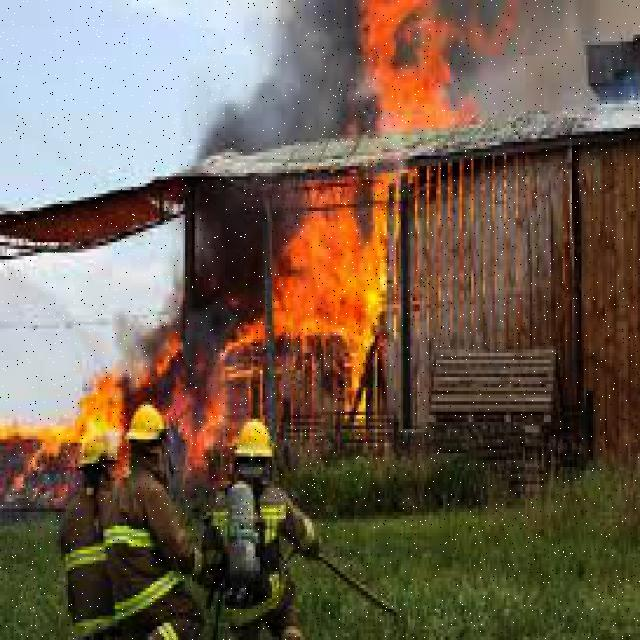fire: (278, 222, 402, 403), (360, 13, 470, 134), (75, 372, 202, 425)
